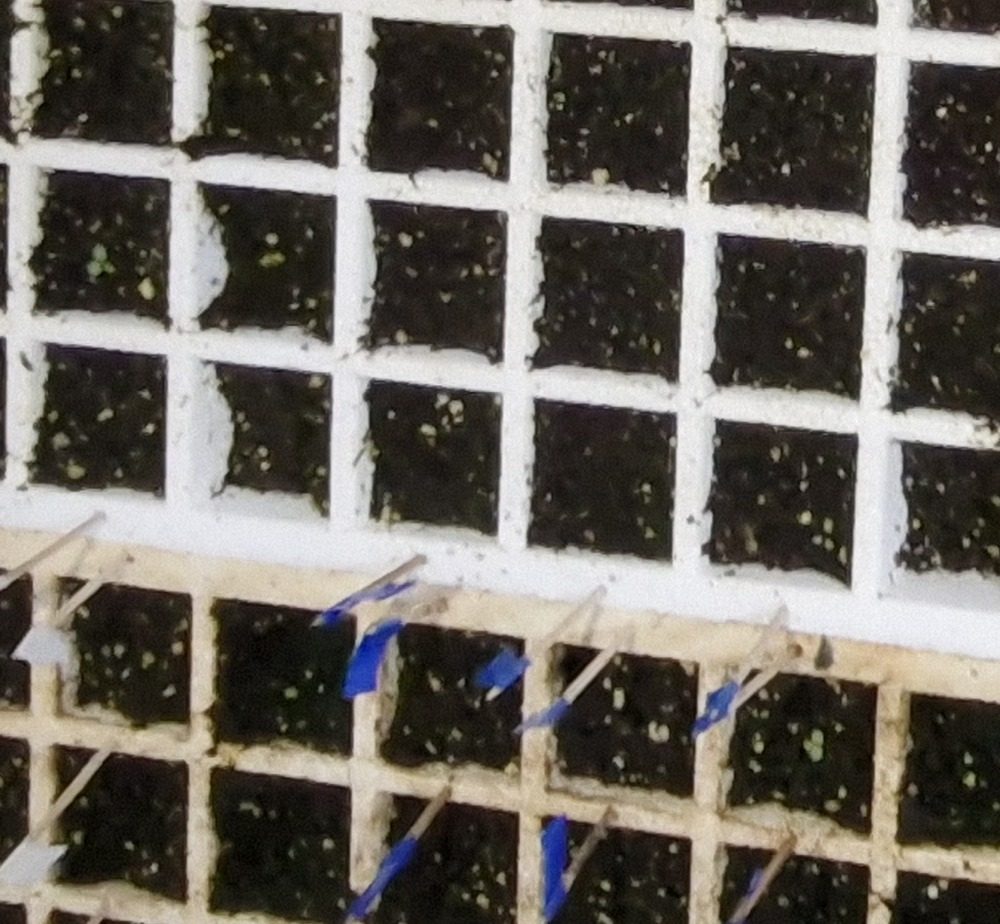Folha: (86, 260, 102, 276), (93, 245, 108, 261), (104, 260, 117, 273), (261, 255, 274, 265), (271, 254, 283, 263)
Germinacao: (86, 242, 116, 277), (260, 253, 285, 266)
